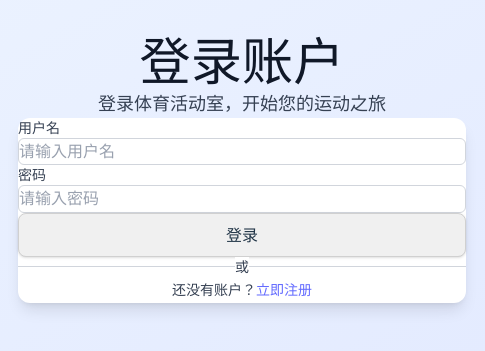
LoginPage › should clear errors when user types
The image size is (485, 351).
Click the button "登录".
click(242, 235)  # box [18,213,466,257]
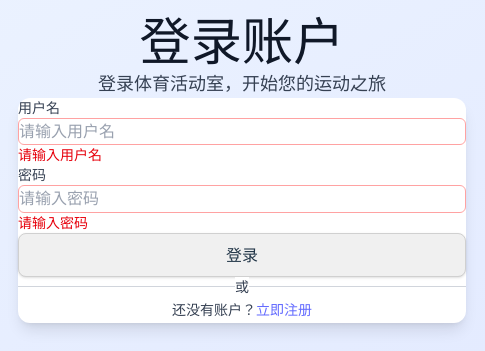
Check: the text "请输入用户名" is shown, box [18,146,102,163]
Note: 输入内容应该清除错误
Type "test" into the field labelled "用户名".
click(242, 132); type("test")  # box [18,118,466,145]
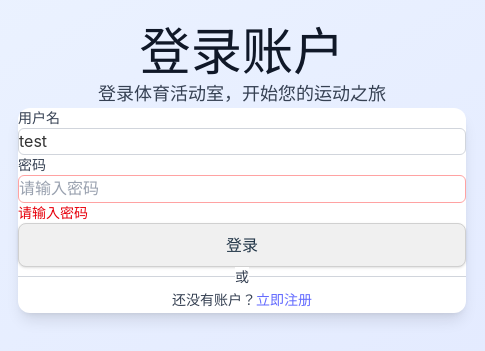
Check: the text "请输入用户名" is gone
